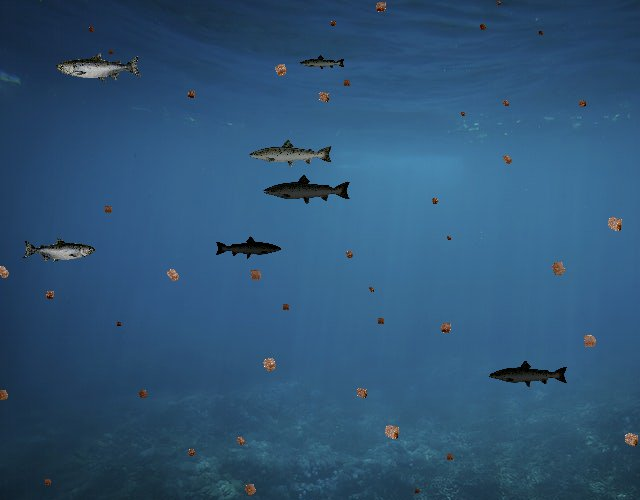Fish: (262, 173, 352, 206), (248, 138, 334, 169), (56, 52, 142, 83), (488, 359, 569, 388), (22, 237, 95, 264), (214, 236, 282, 260), (299, 54, 346, 71)
Pellet: (312, 86, 335, 109), (497, 149, 517, 169), (183, 86, 200, 103), (373, 314, 388, 328), (85, 23, 98, 36), (458, 108, 468, 119)
